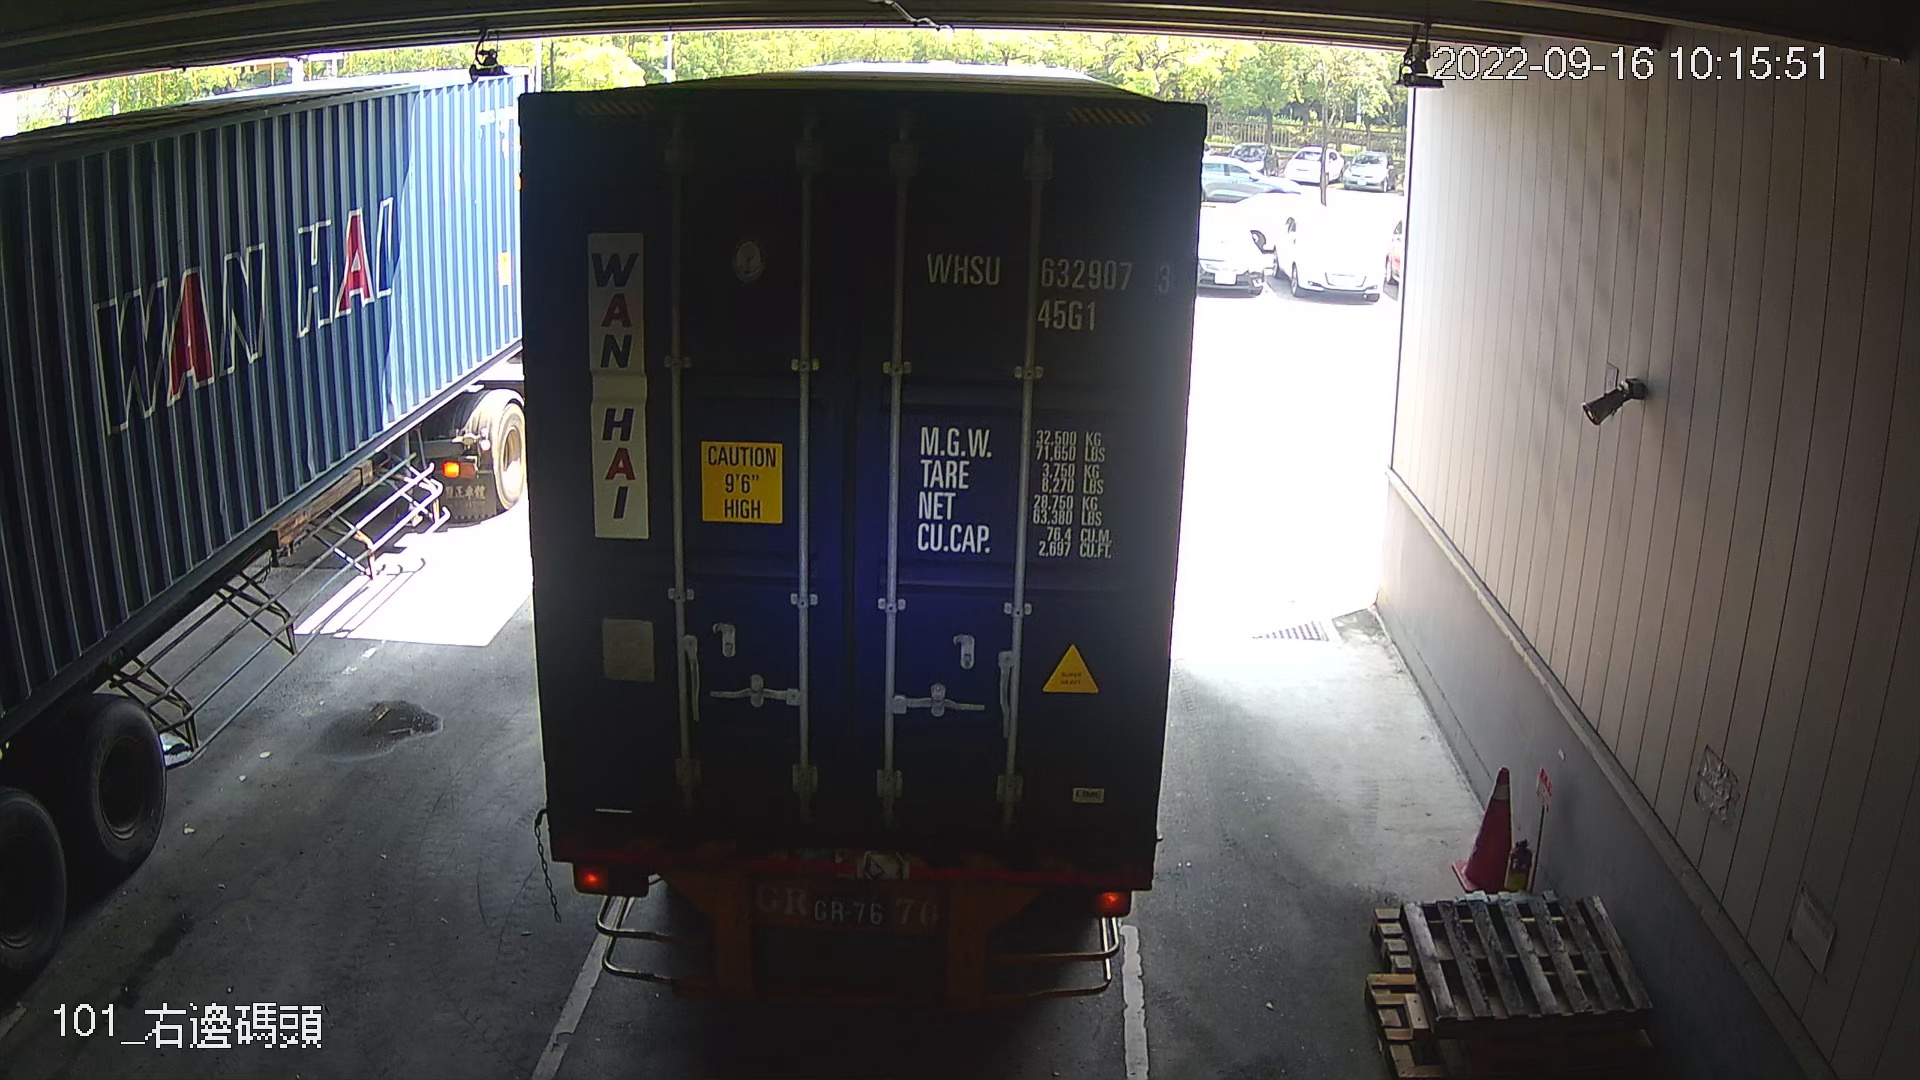container: (913, 237, 1182, 345)
